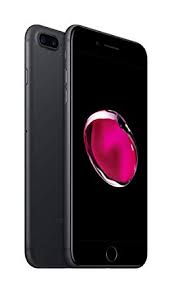iphone: (60, 22, 149, 271)
iphone7: (61, 23, 150, 272)
